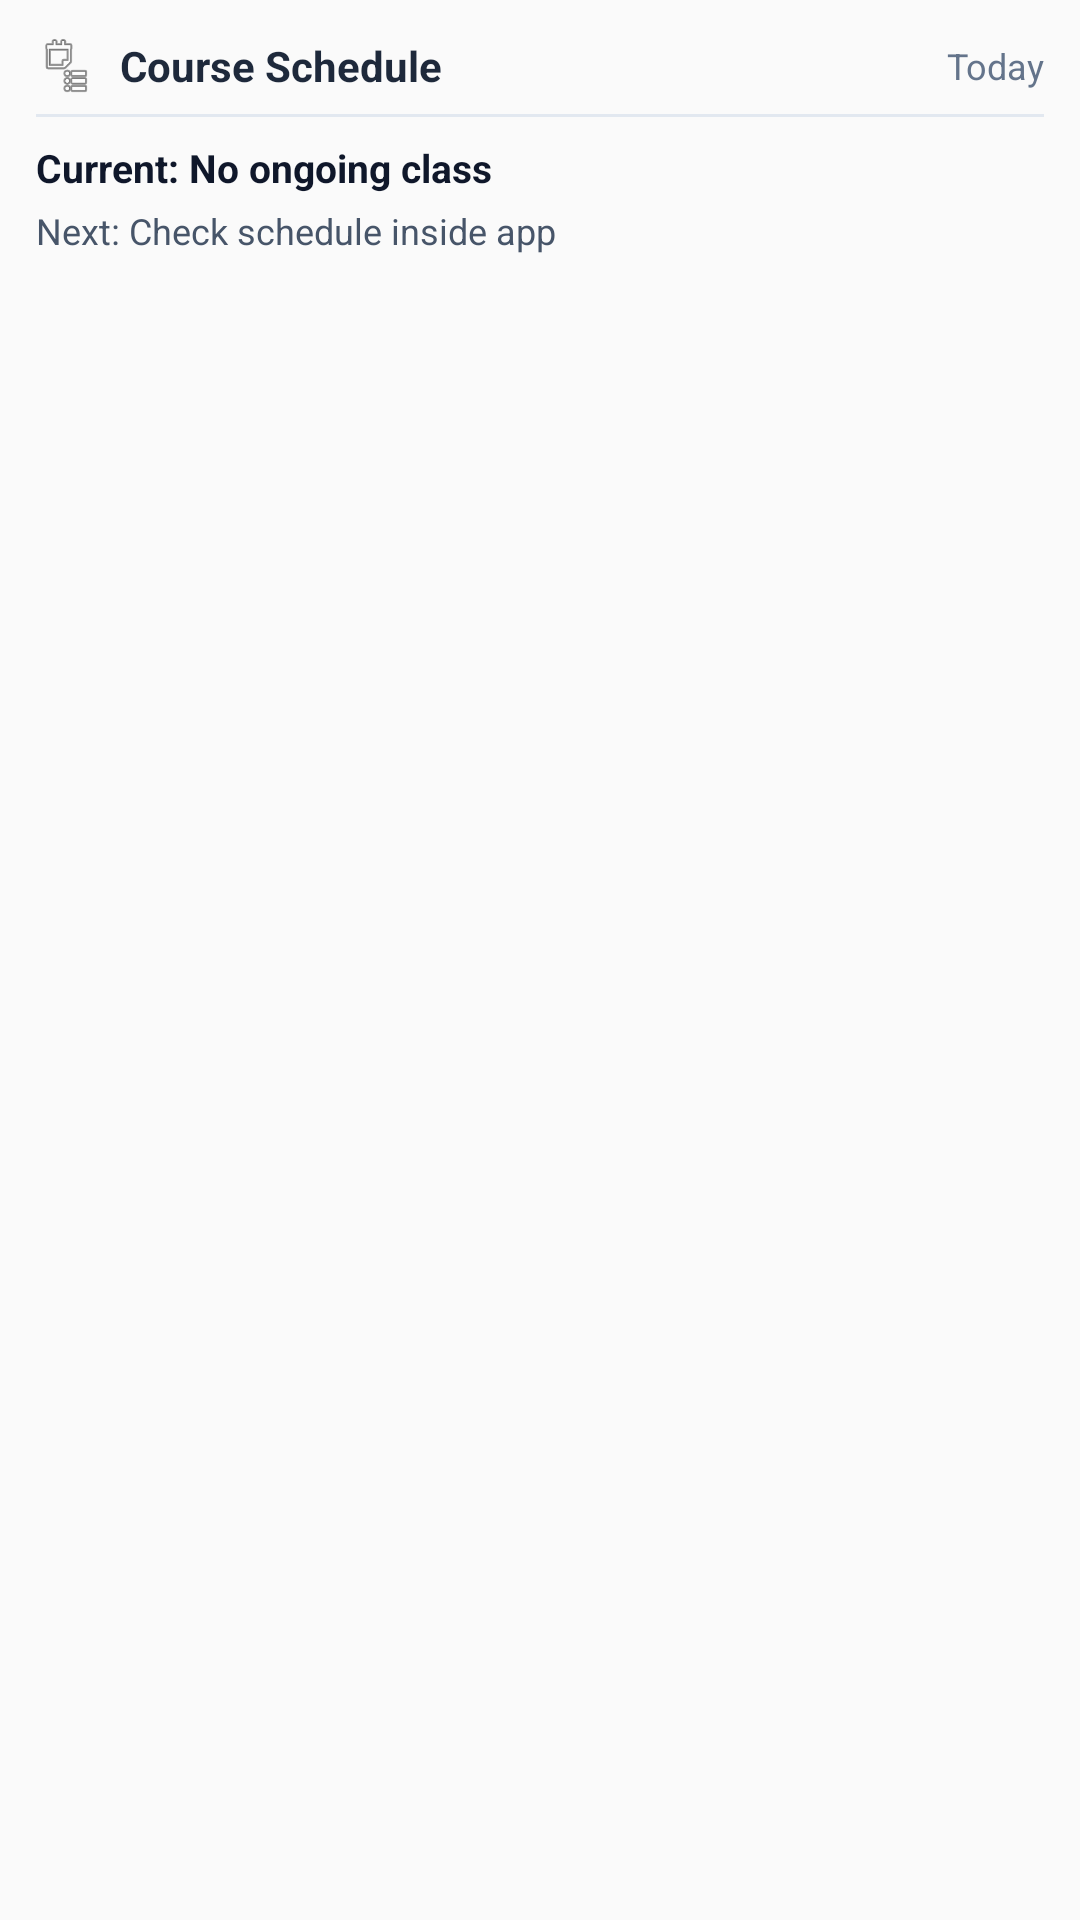

Icon click points for this 1080px x 1920px phone screenshot, format (x=x, y=y):
agenda: (x=66, y=65)
